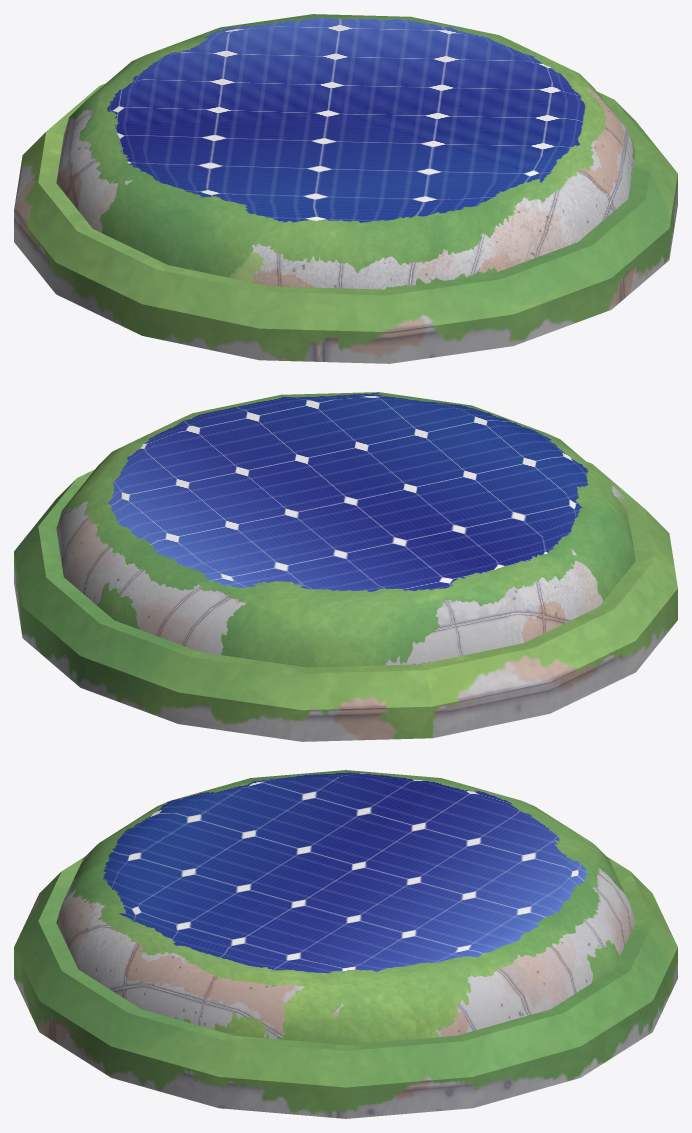
The model's file is OC_Panel_01.fbx.
3 views of the same model, one above another, from view 1: azimuth 30°, elevation 25°; view 2: azimuth 150°, elevation 25°; view 3: azimuth 270°, elevation 25° (orthographic).
Parts seen in each view (by area): view 1: PANLE CIRCULAR; view 2: PANLE CIRCULAR; view 3: PANLE CIRCULAR.
Part boxes in pixels (<box>): PANLE CIRCULAR: <box>14,14,677,363</box>; PANLE CIRCULAR: <box>14,392,677,741</box>; PANLE CIRCULAR: <box>14,770,677,1118</box>.
Bounding box in the file's own units: 6.3 × 1.13 × 6.3.
